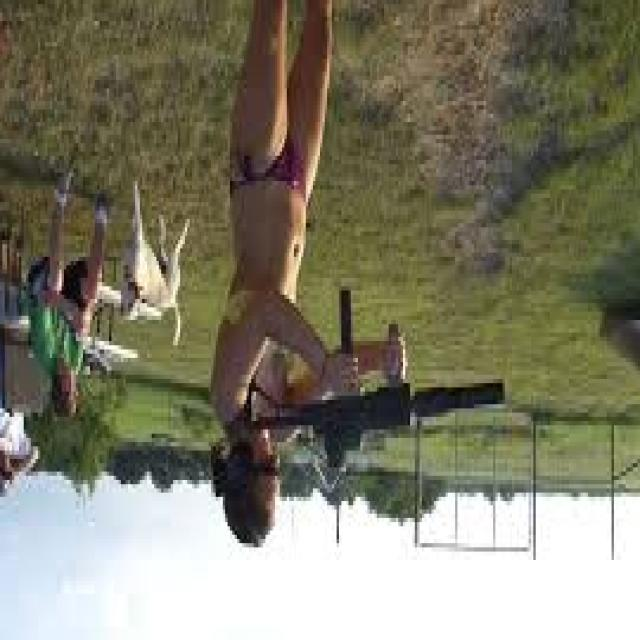gun: (235, 244, 538, 495)
